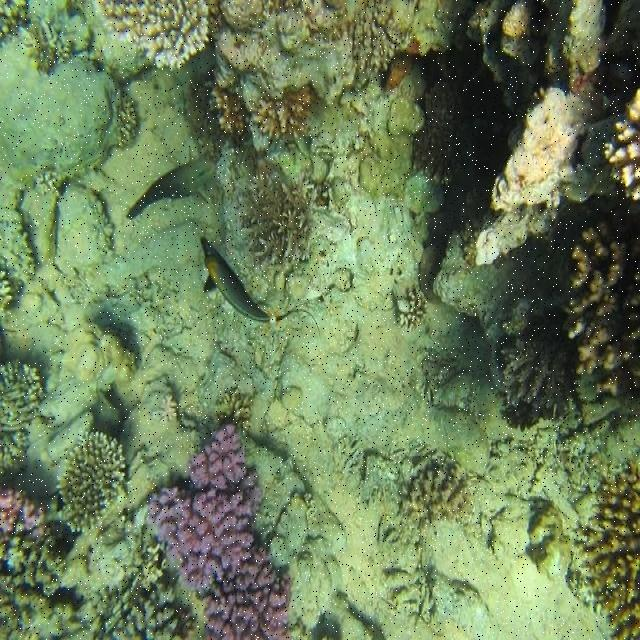fish: (201, 238, 320, 336), (126, 146, 216, 219)
reefs: (149, 424, 293, 639), (0, 487, 83, 638), (569, 212, 639, 389), (77, 534, 193, 639), (585, 454, 638, 639), (506, 307, 572, 427), (104, 0, 211, 70), (240, 169, 318, 265), (57, 431, 126, 532), (412, 80, 466, 183), (1, 361, 45, 481), (604, 89, 639, 201), (409, 467, 472, 519), (256, 86, 317, 138), (214, 90, 245, 134), (116, 101, 137, 147)
